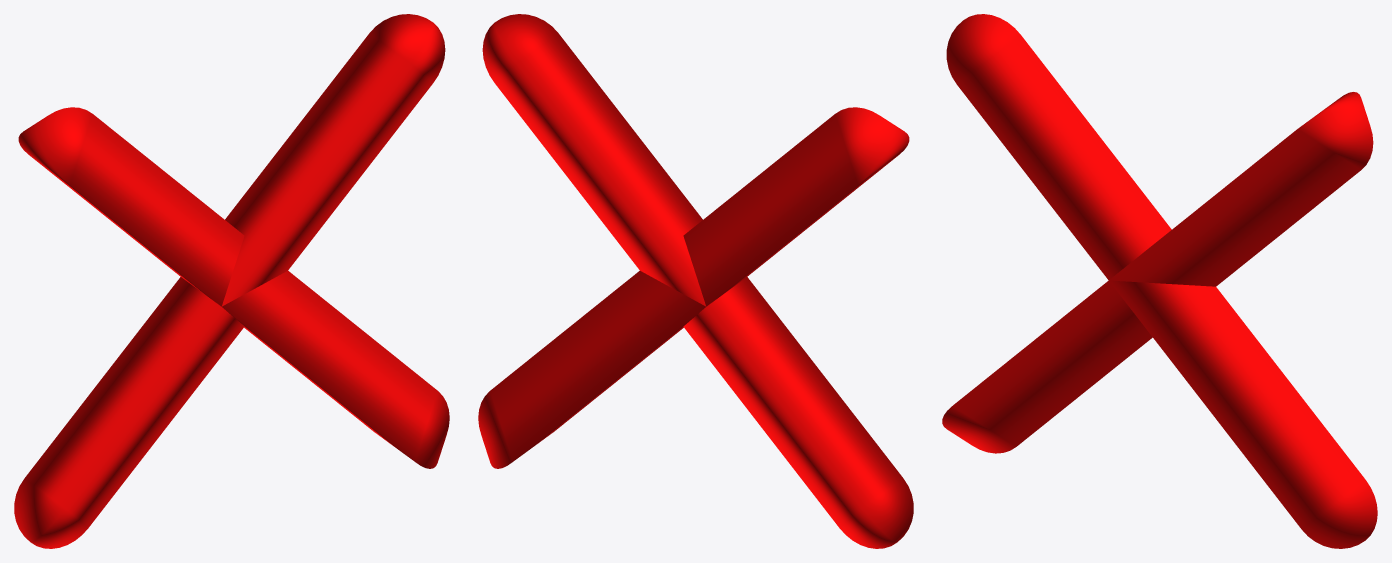
The model's file is cross.glb.
3 views of the same model, side by side, from view 1: azimuth 30°, elevation 25°; view 2: azimuth 150°, elevation 25°; view 3: azimuth 330°, elevation 25° (orthographic).
Visible parts, largest first — view 1: 001_Cylinder, 000_Cylinder_1; view 2: 001_Cylinder, 000_Cylinder_1; view 3: 000_Cylinder_1, 001_Cylinder.
Part boxes in pixels (x1,y1,x2,y2): 001_Cylinder: (14, 14, 445, 548); 000_Cylinder_1: (18, 107, 449, 468); 001_Cylinder: (482, 14, 913, 548); 000_Cylinder_1: (478, 107, 909, 468); 000_Cylinder_1: (946, 14, 1377, 548); 001_Cylinder: (942, 92, 1373, 453).
Bounding box in the file's own units: 20.62 × 20.44 × 3.46.
